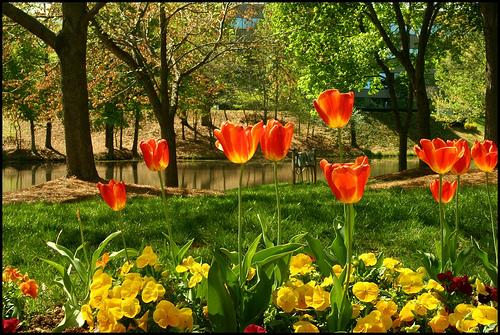tulip: (322, 152, 370, 203), (212, 122, 258, 167), (413, 135, 461, 171), (313, 88, 356, 128), (257, 115, 294, 161), (138, 136, 171, 171), (95, 179, 128, 210), (428, 178, 458, 202)
